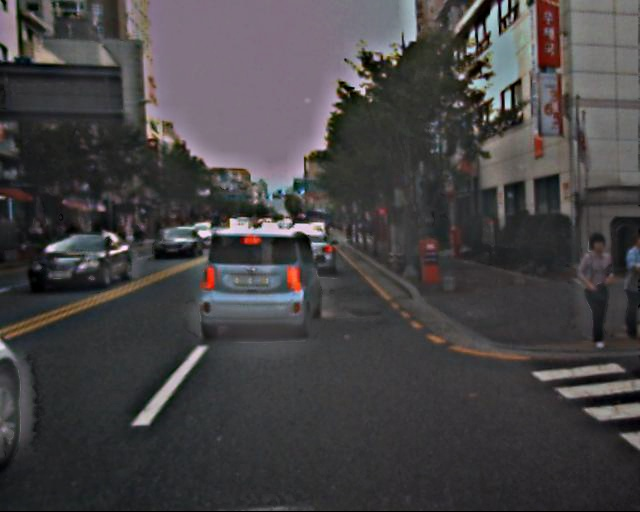person: (570, 235, 620, 349), (614, 233, 640, 348)
